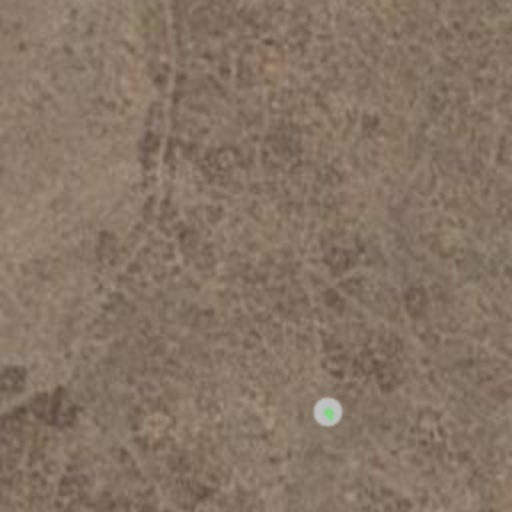circle: (306, 390, 350, 434)
